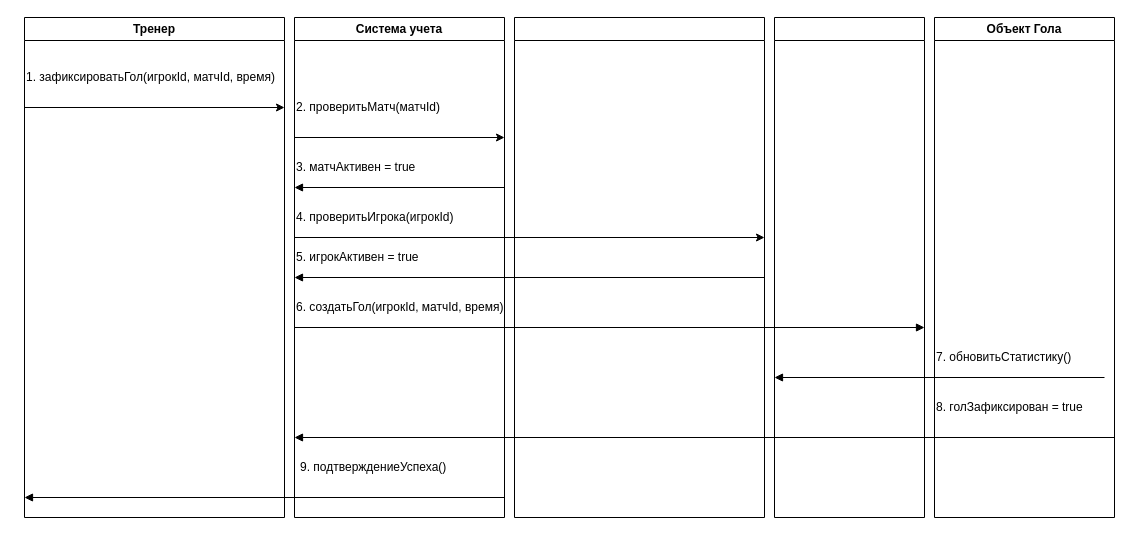
Image size: 1140x535. Some labels were removed from this diagram. Here are the shapes that lost their labels. From the top down, the centre of each, then its label:
At (639,267): "Объект Матча".
At (849,267): "Нападающий".
